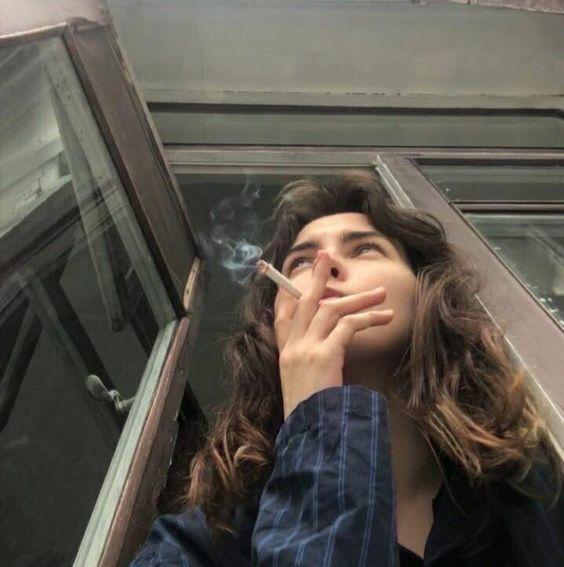cigarette: (256, 260, 304, 300)
